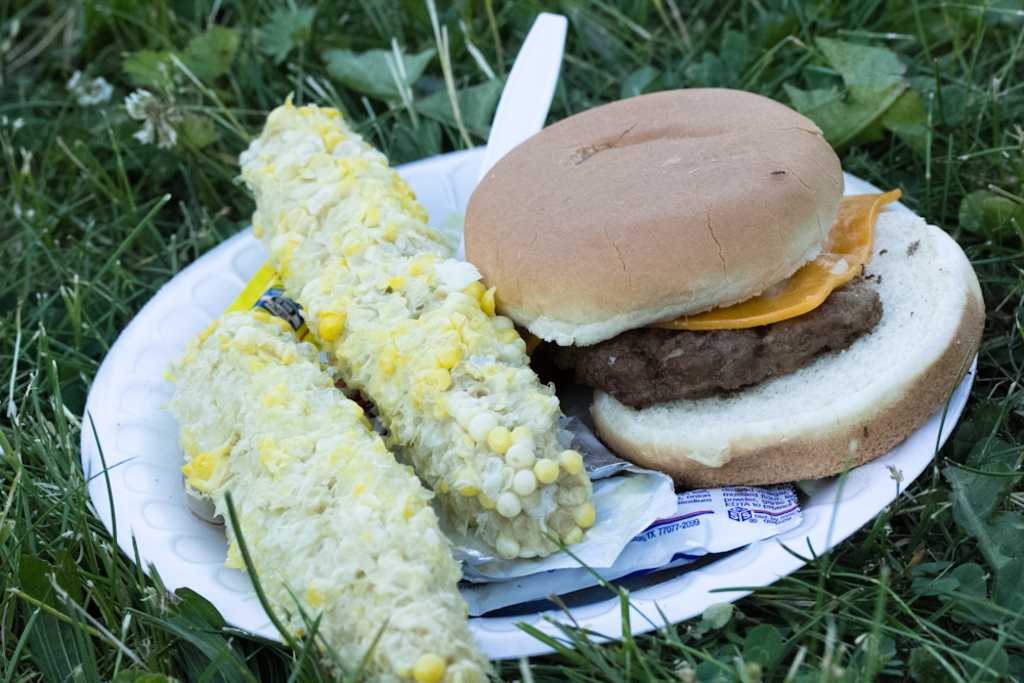Hamburger: (456, 90, 986, 487)
